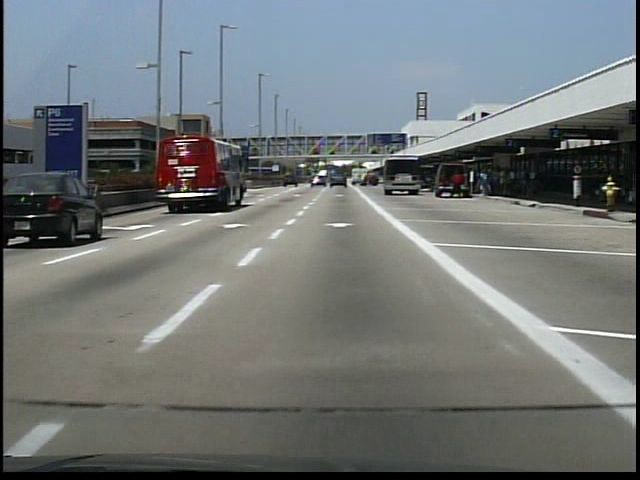person: (450, 168, 466, 204)
